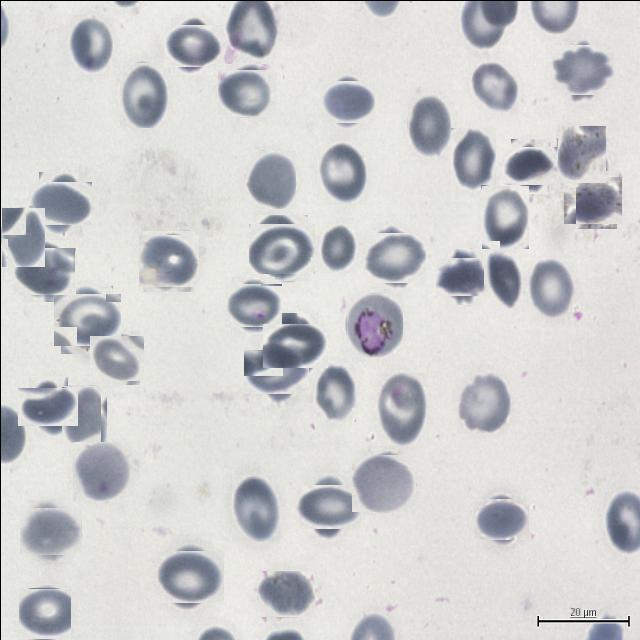red blood cell: (157, 546, 219, 608), (352, 452, 413, 512), (376, 372, 426, 445), (56, 289, 116, 349), (72, 441, 131, 500), (252, 218, 310, 276), (456, 371, 510, 433), (365, 228, 421, 286), (118, 61, 167, 127), (231, 474, 279, 541), (553, 41, 609, 98), (140, 232, 196, 288), (243, 149, 296, 208), (22, 503, 78, 558), (480, 184, 528, 248), (318, 140, 366, 204), (248, 343, 303, 398), (267, 317, 322, 372), (17, 243, 72, 298), (300, 478, 354, 534), (556, 124, 606, 182), (32, 177, 86, 230), (450, 127, 495, 190), (406, 92, 450, 156), (528, 258, 573, 320), (220, 66, 272, 119), (566, 172, 618, 225), (67, 13, 112, 74), (470, 58, 518, 114), (60, 384, 106, 442), (256, 570, 314, 616), (18, 588, 70, 639), (0, 206, 44, 266), (228, 279, 278, 330), (312, 362, 355, 421), (166, 20, 216, 70), (91, 332, 141, 382), (22, 382, 72, 431), (477, 494, 525, 542), (323, 77, 371, 125), (440, 252, 488, 300), (483, 251, 522, 308), (506, 142, 552, 188), (318, 222, 356, 272)
trophozoite: (345, 292, 402, 356)
